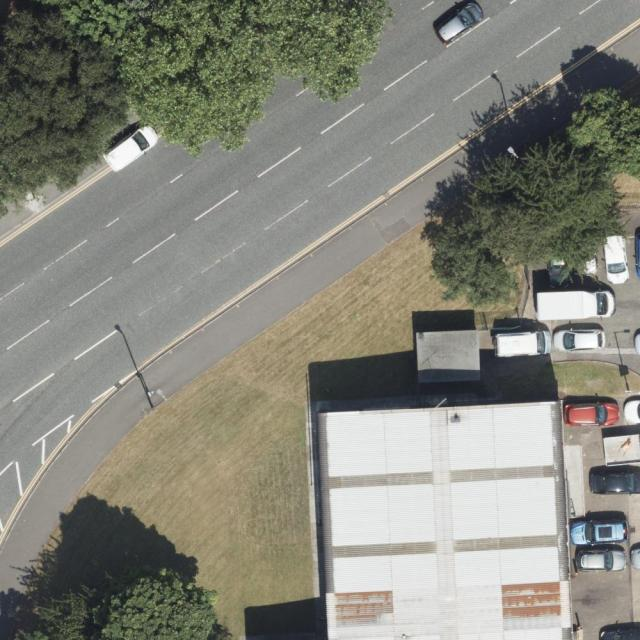roof: (312, 398, 572, 640), (417, 330, 483, 382)
